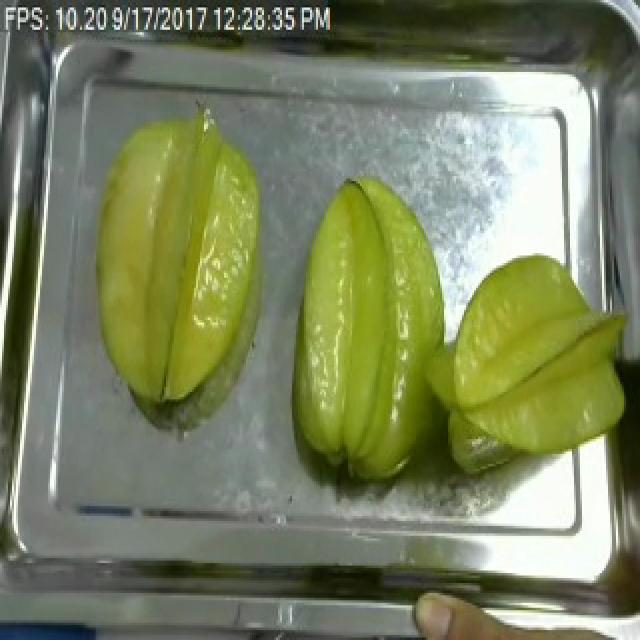fruit: (74, 91, 274, 422), (278, 164, 460, 496), (438, 250, 636, 469)
